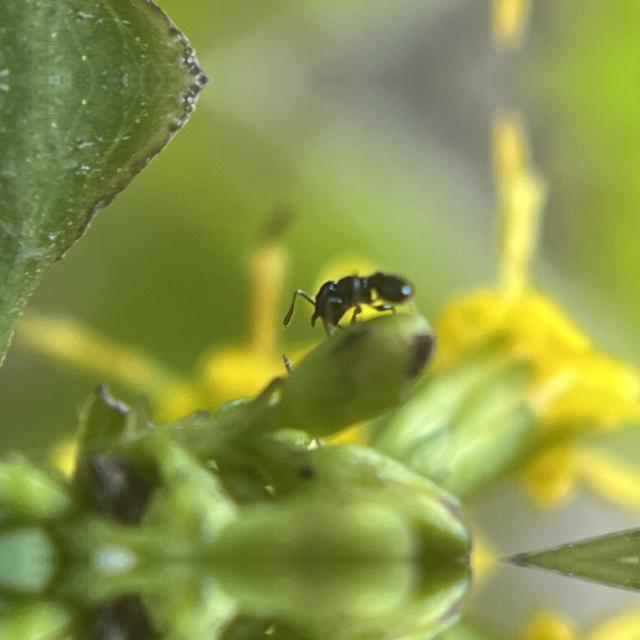Tetramorium: (292, 254, 420, 336)
